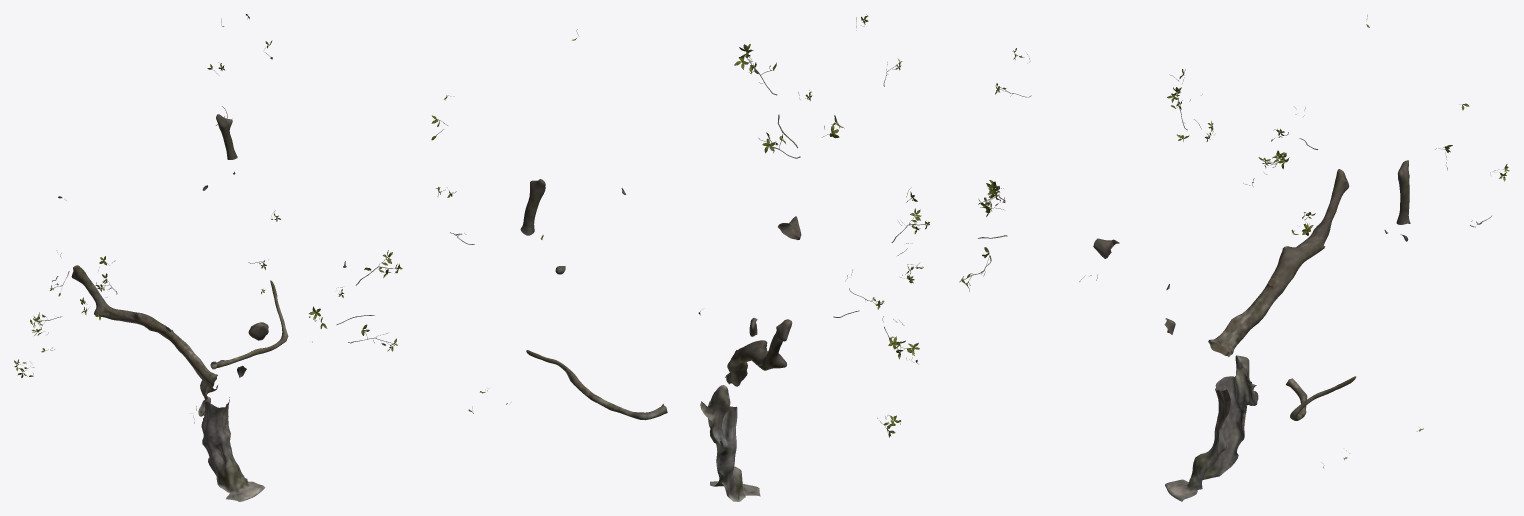
File: broadleaf.glb
3 views of the same model, side by side, from view 1: azimuth 30°, elevation 25°; view 2: azimuth 150°, elevation 25°; view 3: azimuth 270°, elevation 25° (orthographic). The views are drawn at different scales.
Visible parts, largest first — view 1: island_tree_01_LOD0; view 2: island_tree_01_LOD0; view 3: island_tree_01_LOD0.
Part boxes in pixels (left/top/right/bottom): island_tree_01_LOD0: left=14, top=14, right=402, bottom=501; island_tree_01_LOD0: left=431, top=14, right=929, bottom=501; island_tree_01_LOD0: left=959, top=14, right=1509, bottom=501.
Size of the model in its own units: 4 by 4.91 by 4.82.
Materials: 3 (3 with a texture image).
